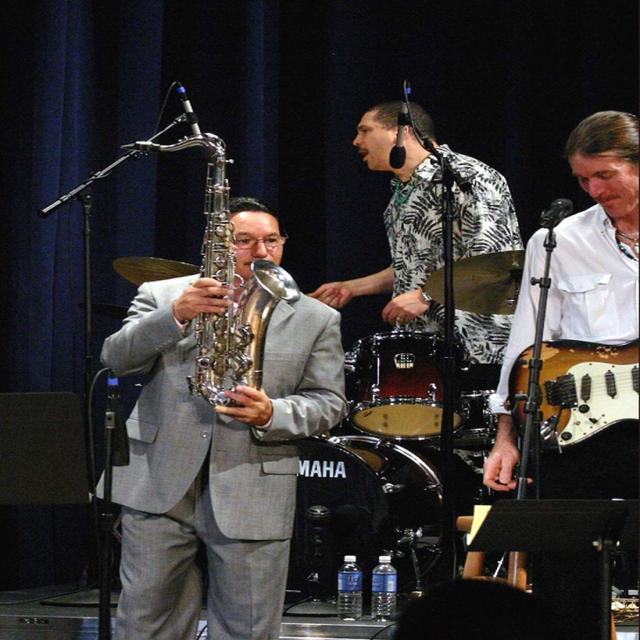drums: (109, 244, 536, 598)
guitar: (512, 329, 640, 453)
saxophone: (110, 121, 301, 429)
